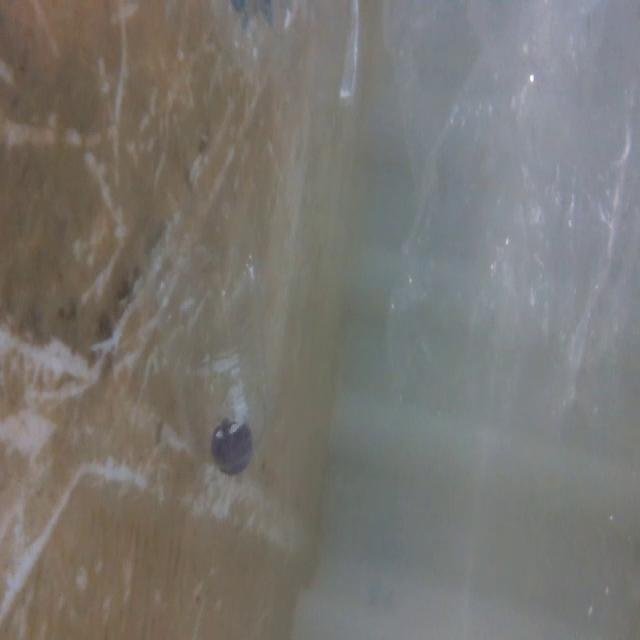plastic bags: (379, 0, 639, 435), (181, 0, 371, 116)
plastic bottle: (134, 172, 278, 487)
